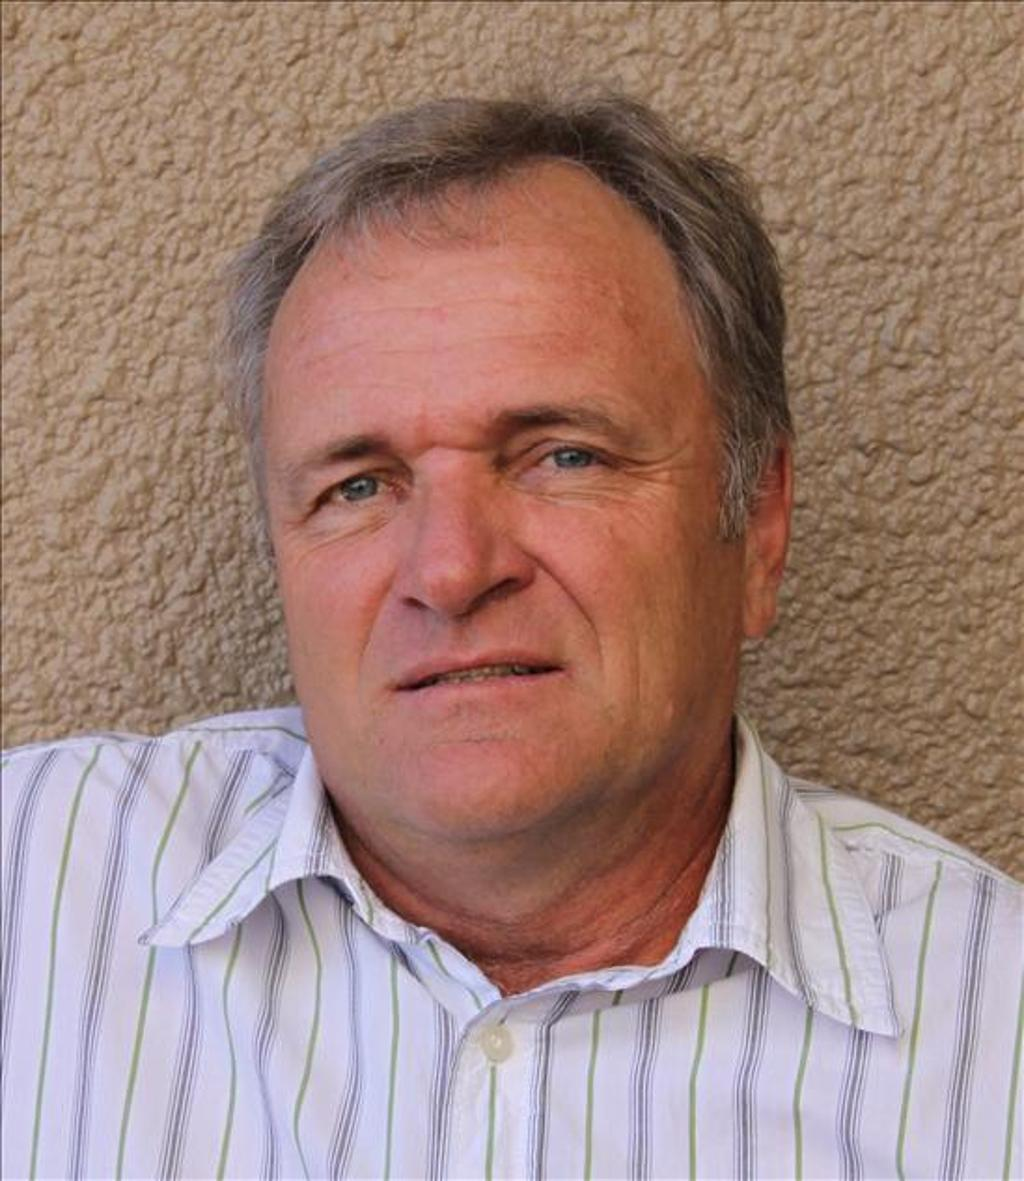face: (272, 201, 742, 819)
